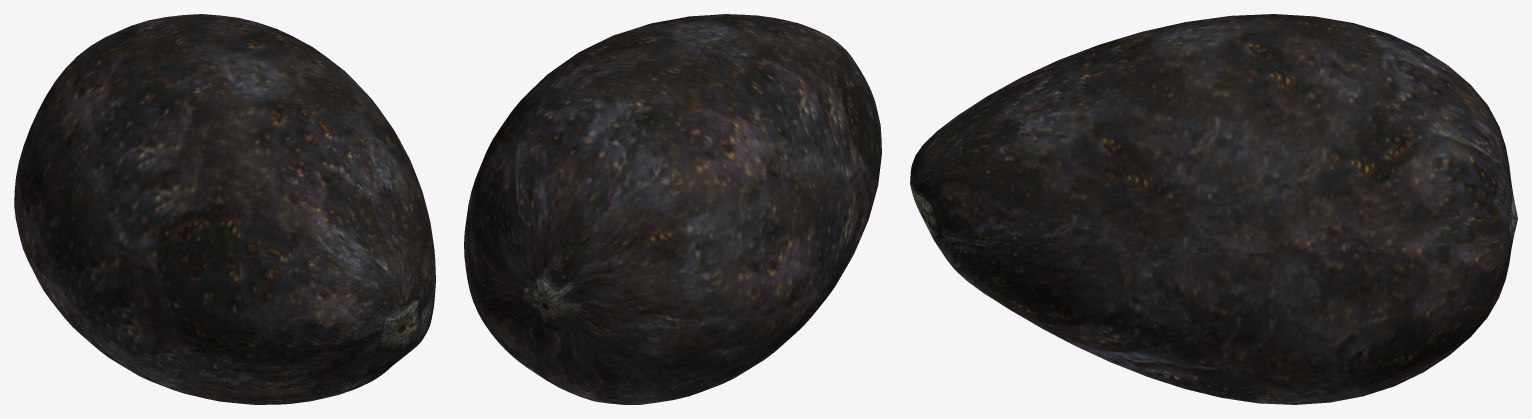
The model's file is 10163_Avocado_v2_L3.obj.
The picture shows the model from 3 angles, left to right: view 1: azimuth 30°, elevation 25°; view 2: azimuth 150°, elevation 25°; view 3: azimuth 270°, elevation 25°; orthographic projection. The views are drawn at different scales.
Visible parts, largest first — view 1: 10163_Avocado_v02; view 2: 10163_Avocado_v02; view 3: 10163_Avocado_v02.
Boxes of the visible parts, x1=… form: 10163_Avocado_v02: x1=14, y1=14, x2=435, y2=404; 10163_Avocado_v02: x1=464, y1=14, x2=881, y2=404; 10163_Avocado_v02: x1=910, y1=14, x2=1517, y2=404.
Size of the model in its own units: 12.02 by 11.88 by 18.53.
Materials: 1 (1 with a texture image).
